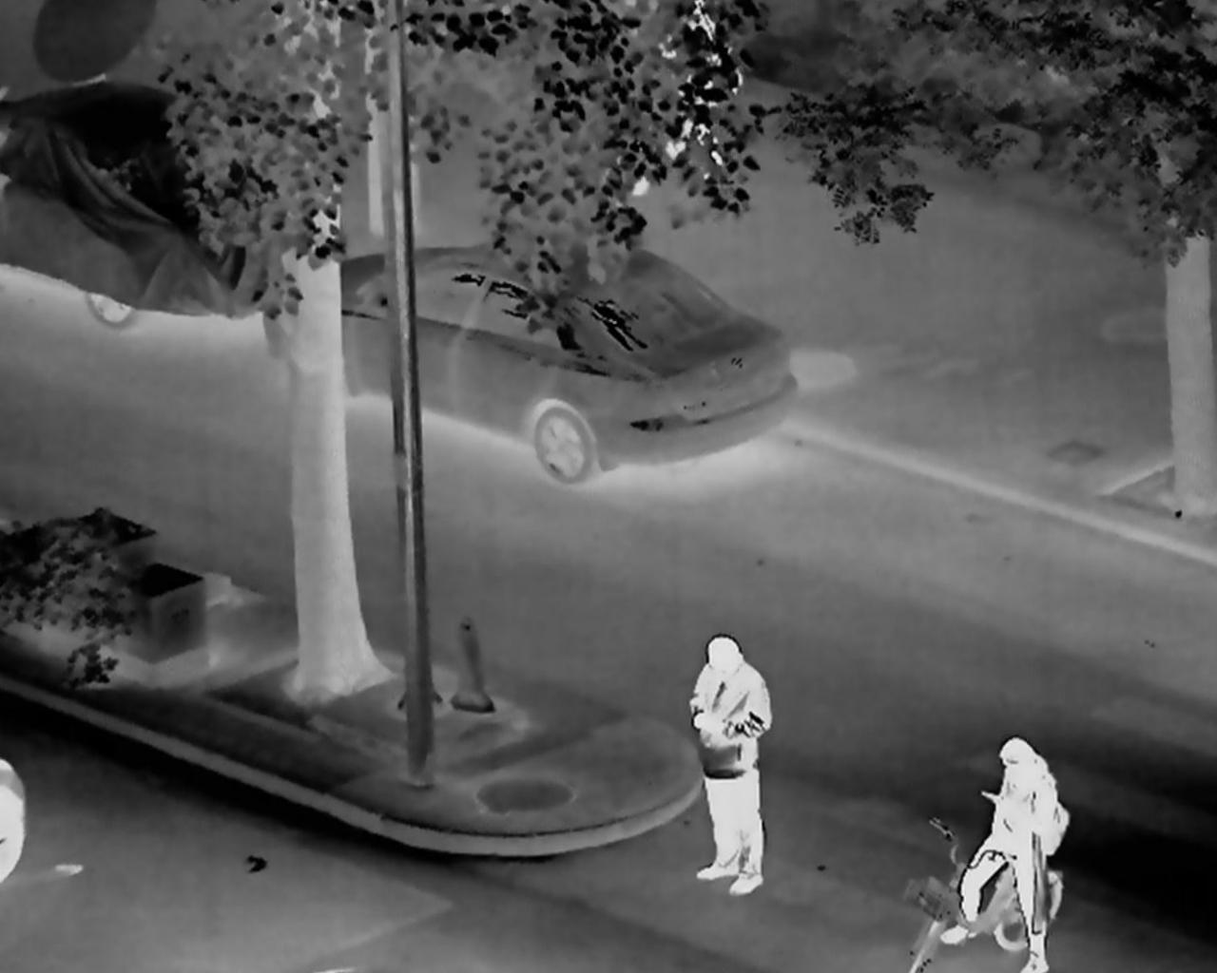person: (938, 736, 1066, 973), (686, 635, 773, 897)
